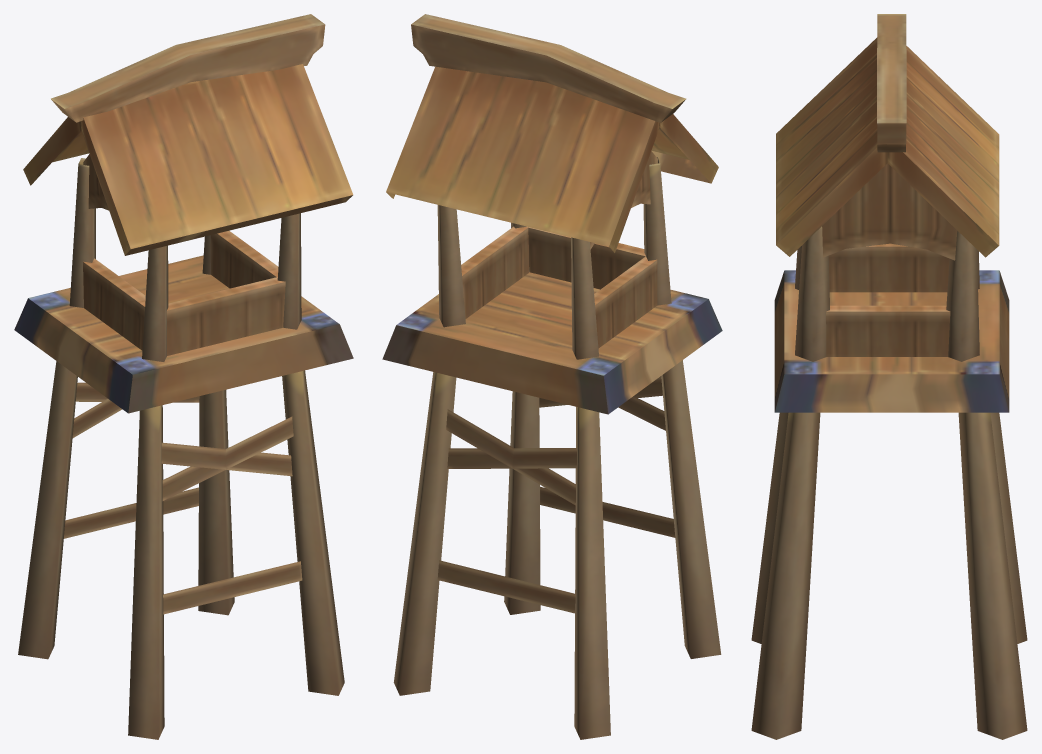
The model's file is field_Buildings_002q.fbx.
3 views of the same model, side by side, from view 1: azimuth 30°, elevation 25°; view 2: azimuth 150°, elevation 25°; view 3: azimuth 270°, elevation 25° (orthographic). The views are drawn at different scales.
Visible parts, largest first — view 1: field_Buildings_002q; view 2: field_Buildings_002q; view 3: field_Buildings_002q.
Part boxes in pixels (x1=…): field_Buildings_002q: x1=14, y1=14, x2=353, y2=739; field_Buildings_002q: x1=382, y1=14, x2=722, y2=739; field_Buildings_002q: x1=751, y1=14, x2=1027, y2=739.
Size of the model in its own units: 55.53 by 126 by 49.56.
